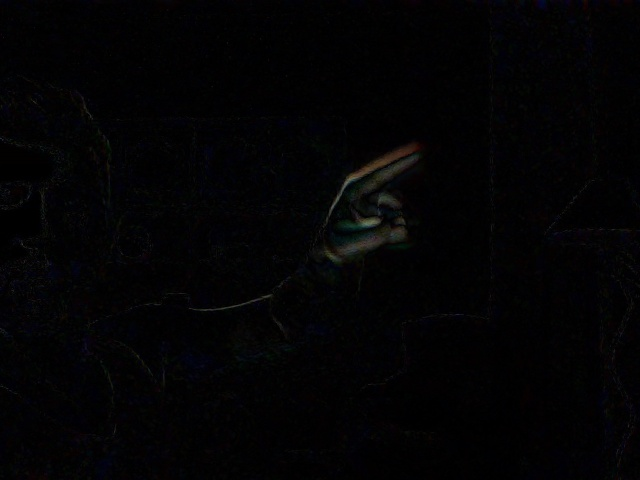hand_po: (320, 132, 435, 271)
